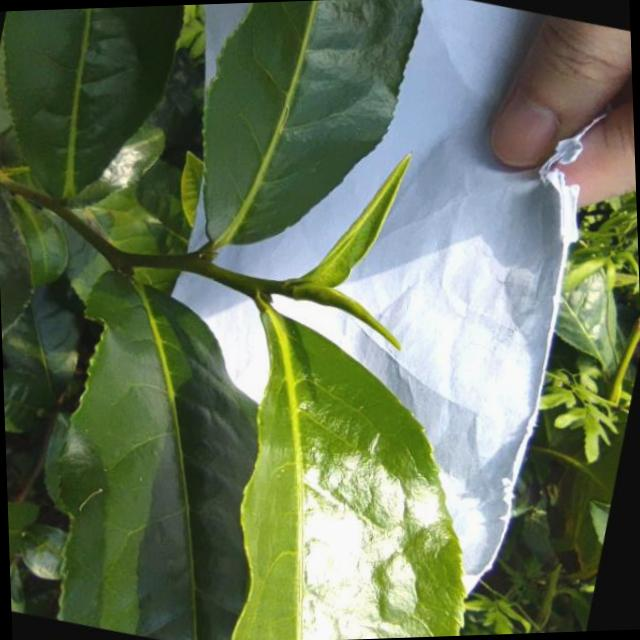Stem: (265, 280, 287, 294)
